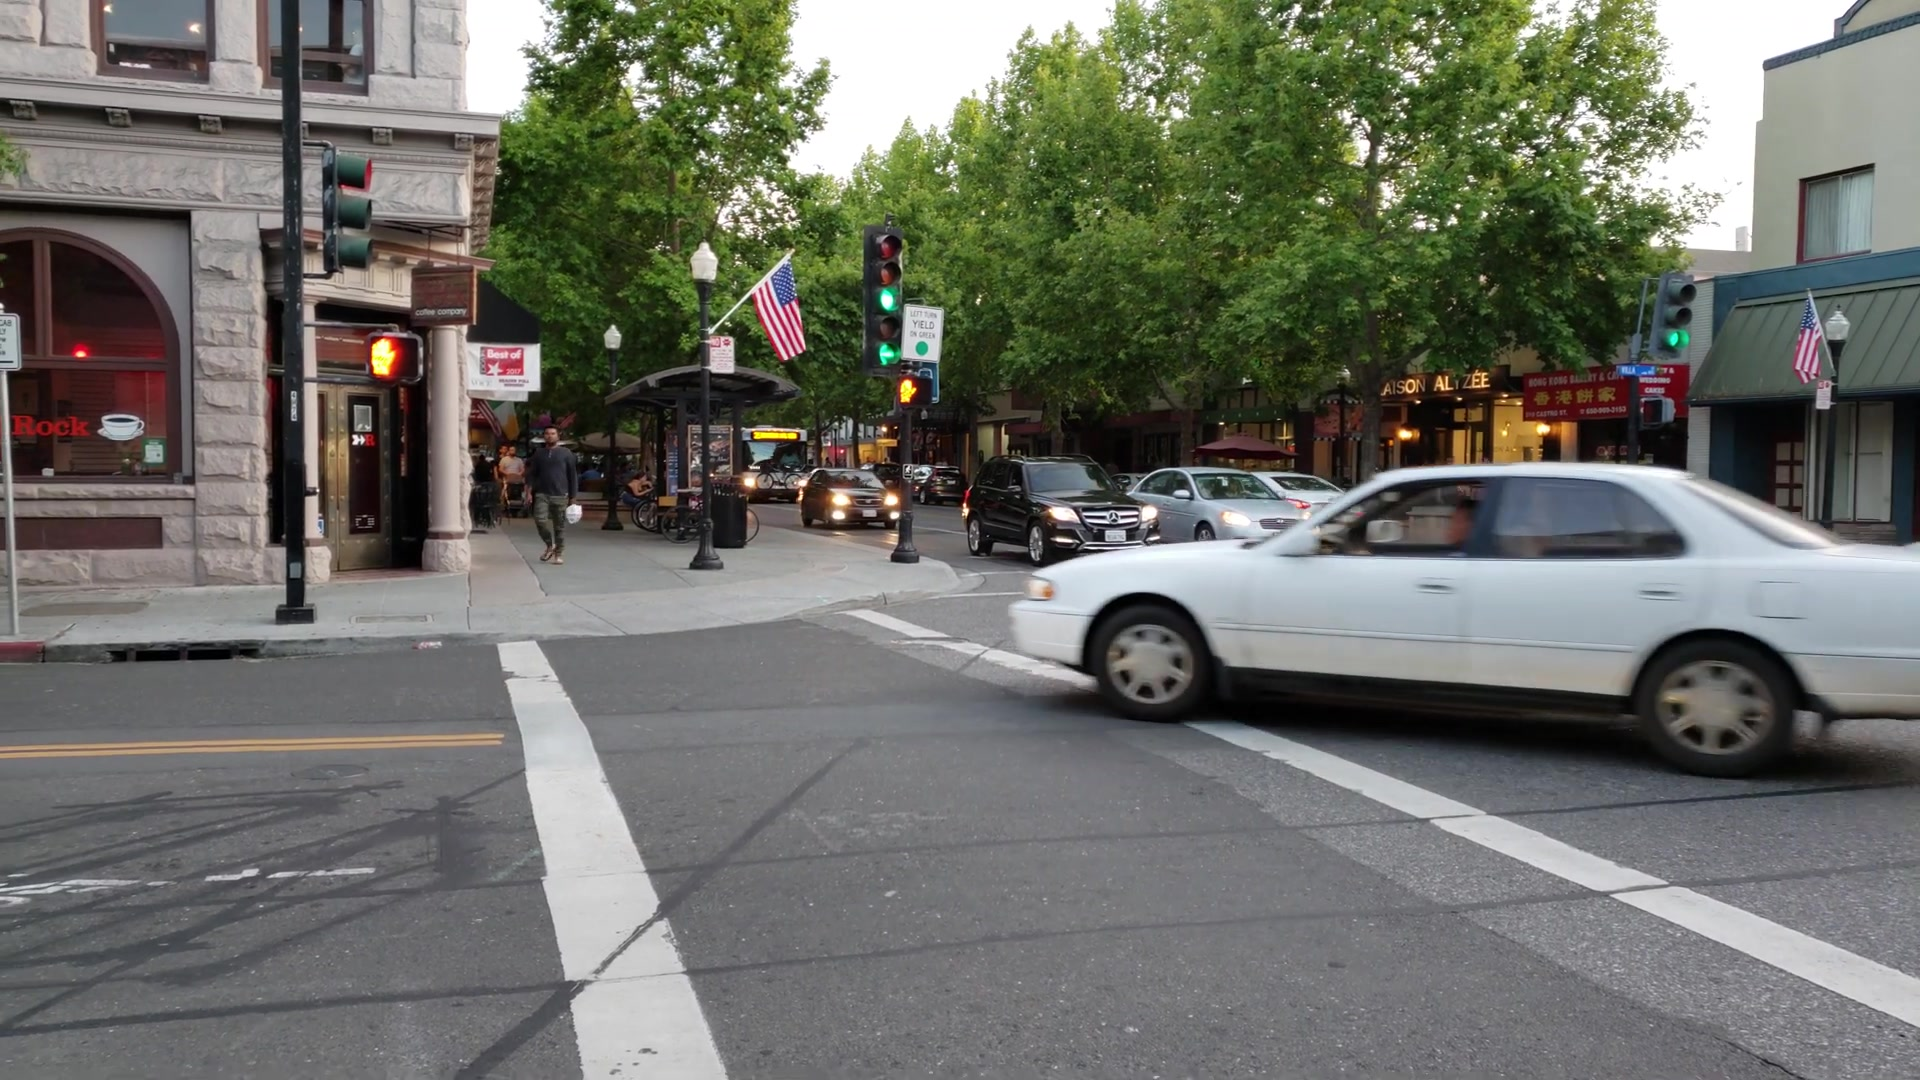vehicle: (1004, 465, 1916, 775), (959, 456, 1158, 566), (800, 469, 897, 527)
